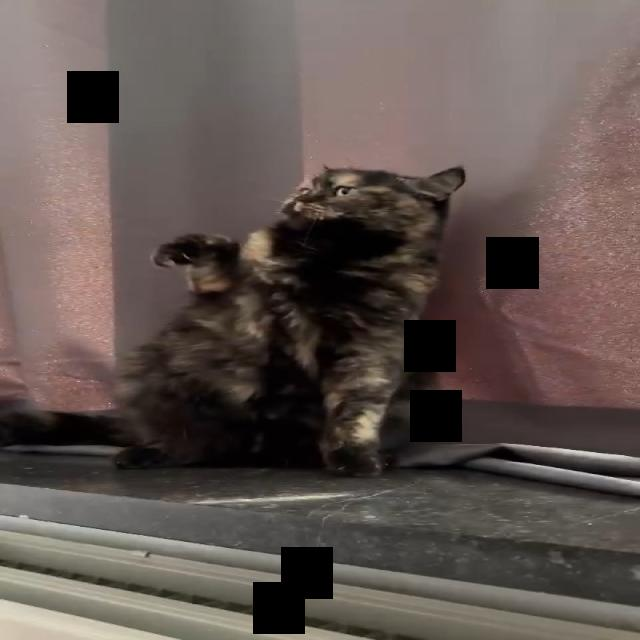authorized: (2, 162, 466, 478)
